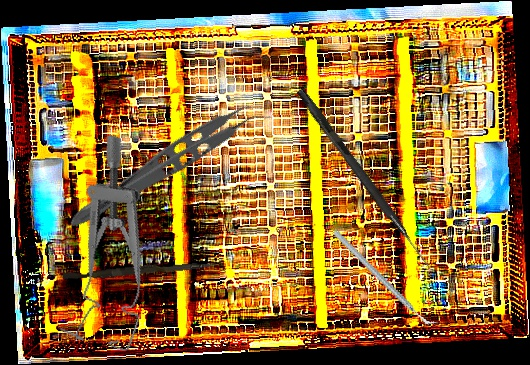Chopper: (331, 207, 439, 350)
Hook Surgical: (294, 87, 435, 270)
Pusher: (62, 257, 217, 283)
Speculum: (42, 133, 192, 356)
Tissue Forceps: (64, 87, 275, 247)
